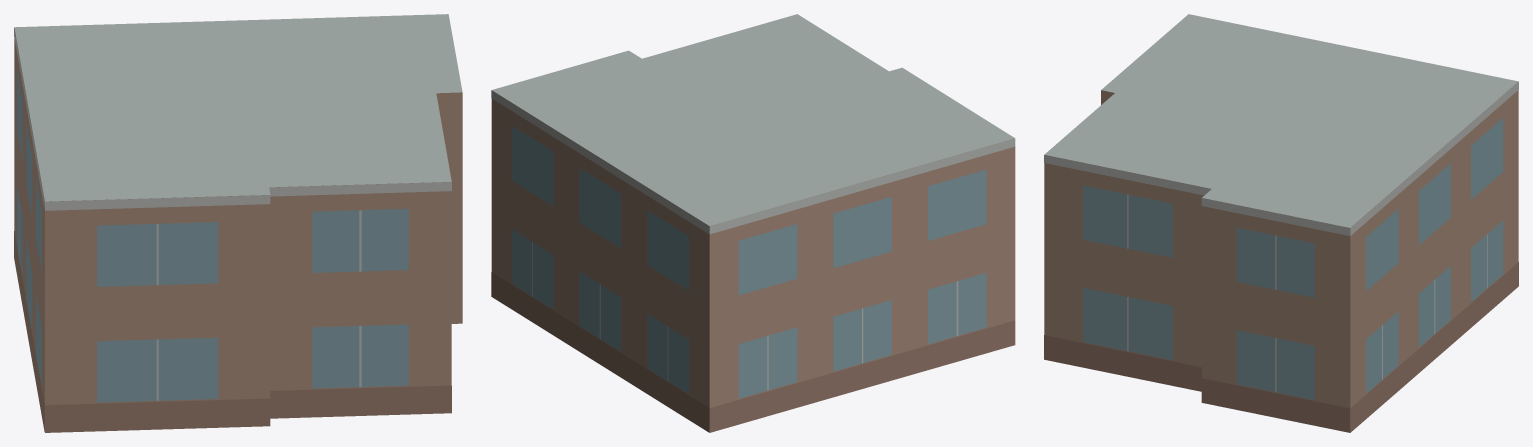
File: survey-upis-32803679.glb
3 renders of one model, left to right at view 1: azimuth 30°, elevation 25°; view 2: azimuth 150°, elevation 25°; view 3: azimuth 270°, elevation 25°, orthographic. The views are drawn at different scales.
Parts seen in each view (by area): view 1: survey-upis-32803679.tmp; view 2: survey-upis-32803679.tmp; view 3: survey-upis-32803679.tmp.
Part boxes in pixels (box(x1,y1,x2,y2)): survey-upis-32803679.tmp: box(14, 14, 462, 432); survey-upis-32803679.tmp: box(491, 14, 1015, 432); survey-upis-32803679.tmp: box(1044, 14, 1518, 432).
Bounding box in the file's own units: 13.67 × 6.1 × 12.82.
